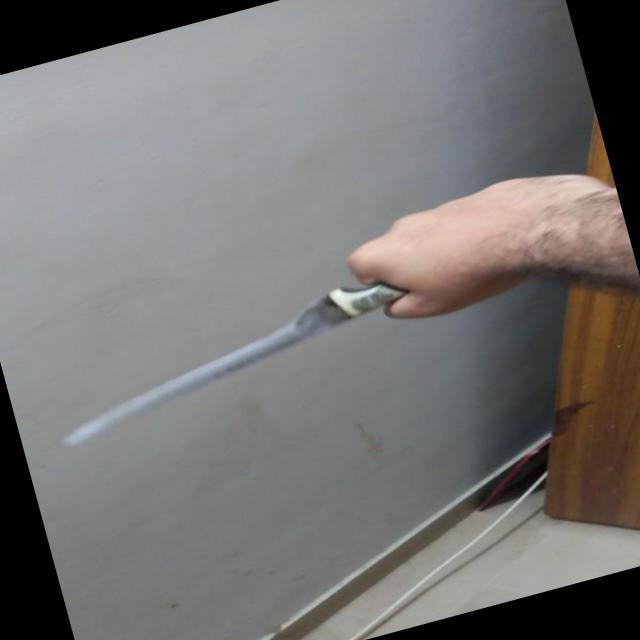Knife: (32, 244, 474, 453)
